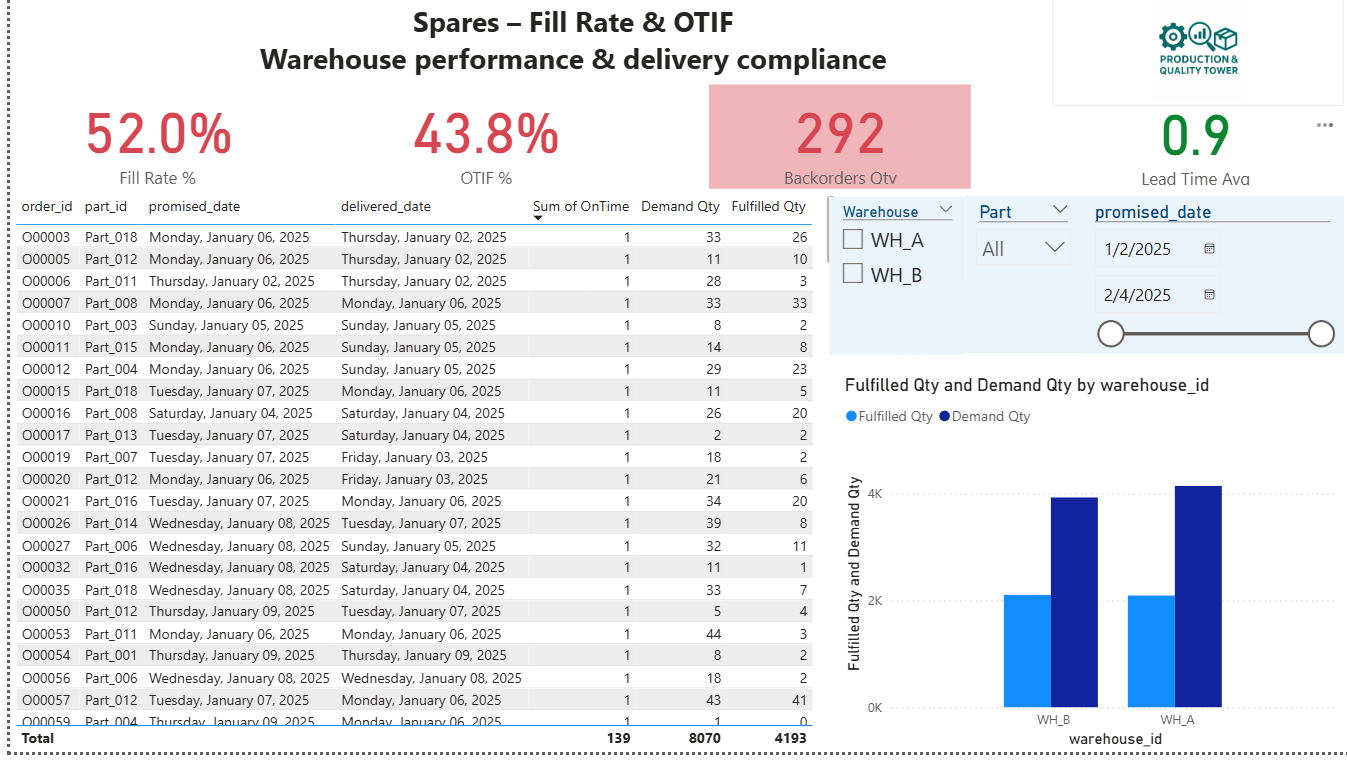

The page's visual inventory and layout, read from the dashboard file:
{"tool":"powerbi","page":{"name":"Spares","canvas":[1280,720],"ordinal":3},"visuals":[{"type":"clusteredColumnChart","fields":{"Category":["Spares_Orders.warehouse_id"],"Y":["_Measures.Fulfilled Qty","_Measures.Demand Qty"]},"box":[790,360,480,360],"z":0},{"type":"tableEx","fields":{"Values":["Spares_Orders.order_id","Spares_Orders.part_id","Spares_Orders.promised_date","Spares_Orders.delivered_date","Sum(Spares_Orders.OnTime)","_Measures.Demand Qty","_Measures.Fulfilled Qty"]},"box":[0,184.3,791.4,535.7],"z":1000},{"type":"slicer","fields":{"Values":["Spares_Orders.promised_date"]},"box":[1020,190,250,150],"z":6000},{"type":"slicer","fields":{"Values":["Spares_Orders.warehouse_id"]},"box":[780,191.4,130,150],"z":7000},{"type":"slicer","fields":{"Values":["Spares_Orders.part_id"]},"box":[910,190,110,150],"z":8000},{"type":"textbox","box":[40,0,992.9,84.3],"z":9000},{"type":"card","fields":{"Values":["_Measures.Fill Rate %"]},"box":[39.8,84.9,200.3,99.5],"z":10000},{"type":"card","fields":{"Values":["_Measures.OTIF %"]},"box":[328.5,84.9,249.4,99.5],"z":11000},{"type":"card","fields":{"Values":["_Measures.Backorders Qty"]},"box":[666.3,84.9,249.4,99.5],"z":12000},{"type":"card","fields":{"Values":["_Measures.Lead Time Avg"]},"box":[1004.1,86.2,249.4,99.5],"z":13000},{"type":"image","box":[992.9,0,277.1,104.3],"z":14000}]}

Visuals, with their boxes in screenshot pixels (x1, y1, x2, y2), scaled from the page's 1280x720 canvas onto the 1347x763 screenshot:
clusteredColumnChart - Spares_Orders.warehouse_id x _Measures.Fulfilled Qty: [831,382,1336,762]
tableEx - Spares_Orders.order_id x Spares_Orders.part_id: [0,195,833,762]
slicer - Spares_Orders.promised_date: [1073,201,1336,360]
slicer - Spares_Orders.warehouse_id: [821,203,958,362]
slicer - Spares_Orders.part_id: [958,201,1073,360]
textbox: [42,0,1087,89]
card - _Measures.Fill Rate %: [42,90,253,195]
card - _Measures.OTIF %: [346,90,608,195]
card - _Measures.Backorders Qty: [701,90,964,195]
card - _Measures.Lead Time Avg: [1057,91,1319,197]
image: [1045,0,1336,111]
